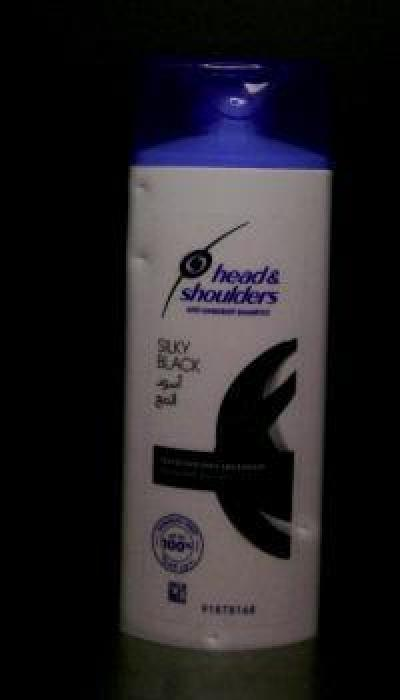dent_unacc: (132, 176, 162, 212), (293, 513, 319, 553), (128, 246, 156, 282), (195, 622, 227, 648)
